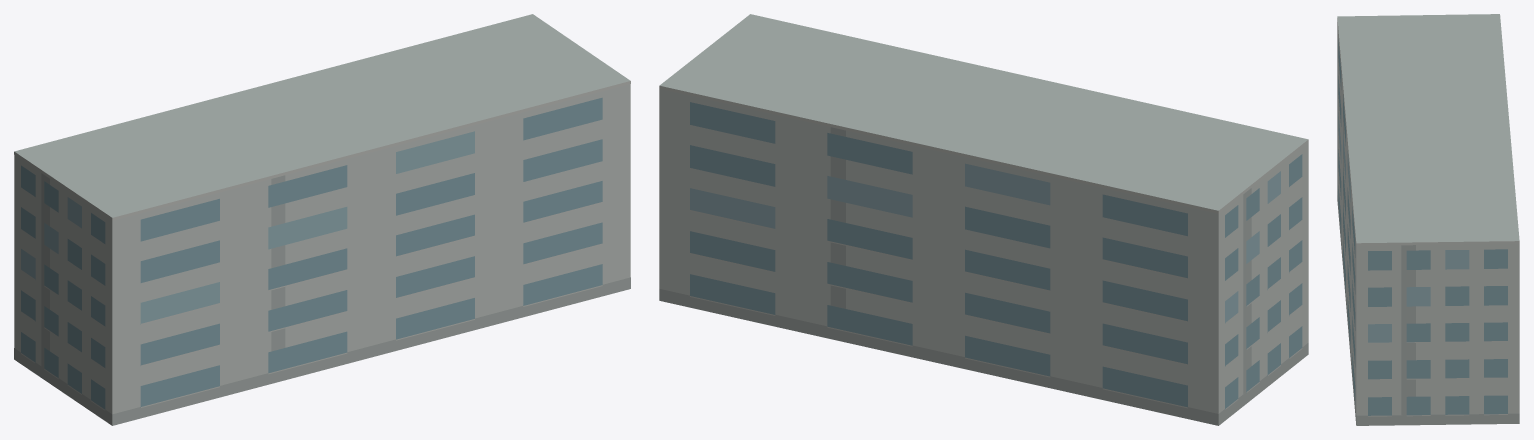
Rendered from survey-upis-32838265.glb.
The picture shows the model from 3 angles, left to right: view 1: azimuth 30°, elevation 25°; view 2: azimuth 150°, elevation 25°; view 3: azimuth 270°, elevation 25°; orthographic projection. The views are drawn at different scales.
Parts seen in each view (by area): view 1: survey-upis-32838265.tmp; view 2: survey-upis-32838265.tmp; view 3: survey-upis-32838265.tmp.
Part boxes in pixels (<box>): survey-upis-32838265.tmp: <box>14,14,630,425</box>; survey-upis-32838265.tmp: <box>659,14,1308,425</box>; survey-upis-32838265.tmp: <box>1337,14,1519,425</box>.
Size of the model in its own units: 44.66 by 16.6 by 15.02.
